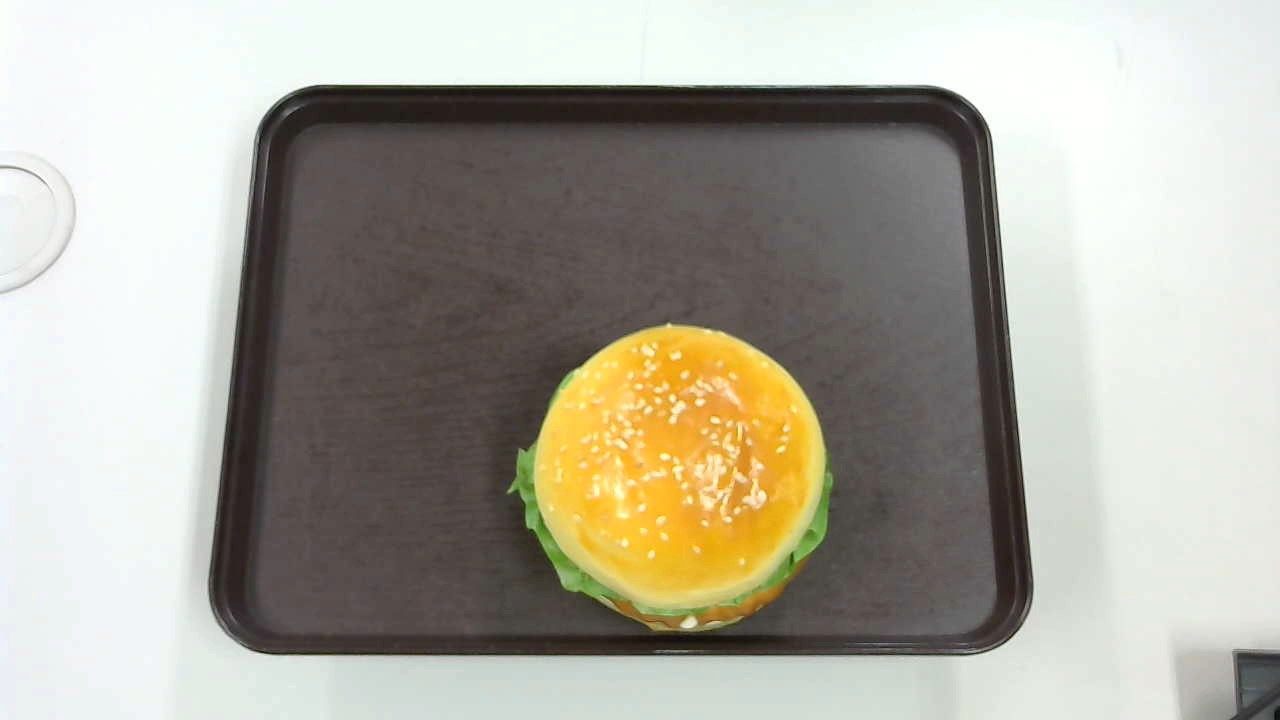hamburger: (507, 324, 832, 632)
